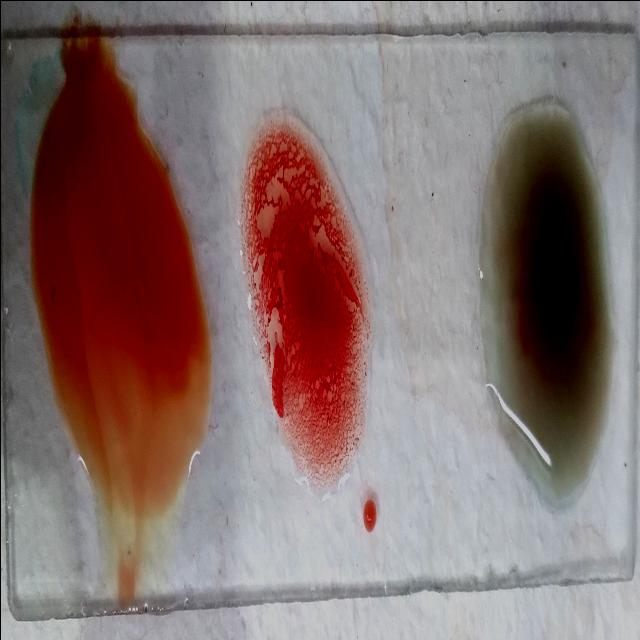D: (242, 118, 370, 486)
